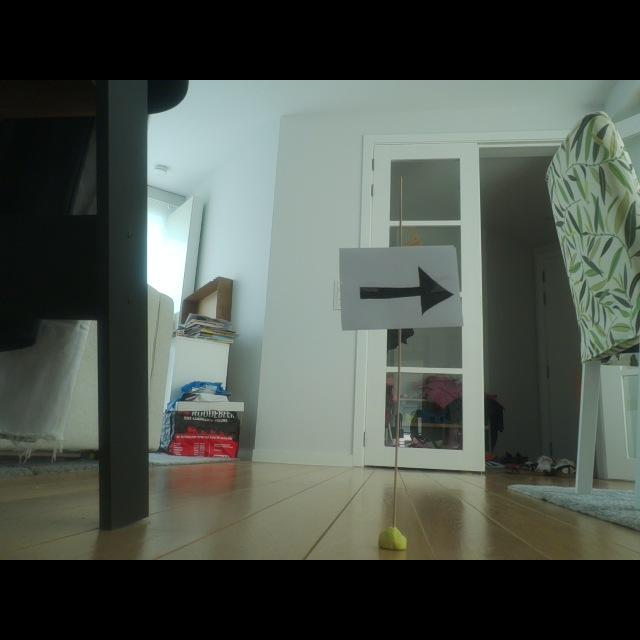jobbra_nyil: (360, 267, 452, 313)
